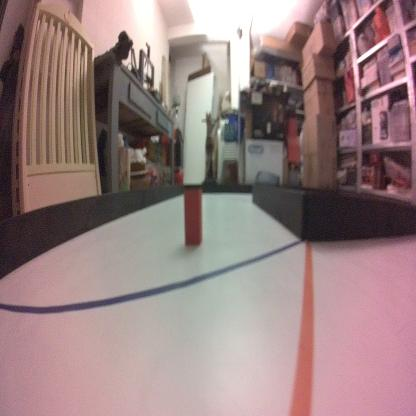red: (184, 185, 202, 246)
